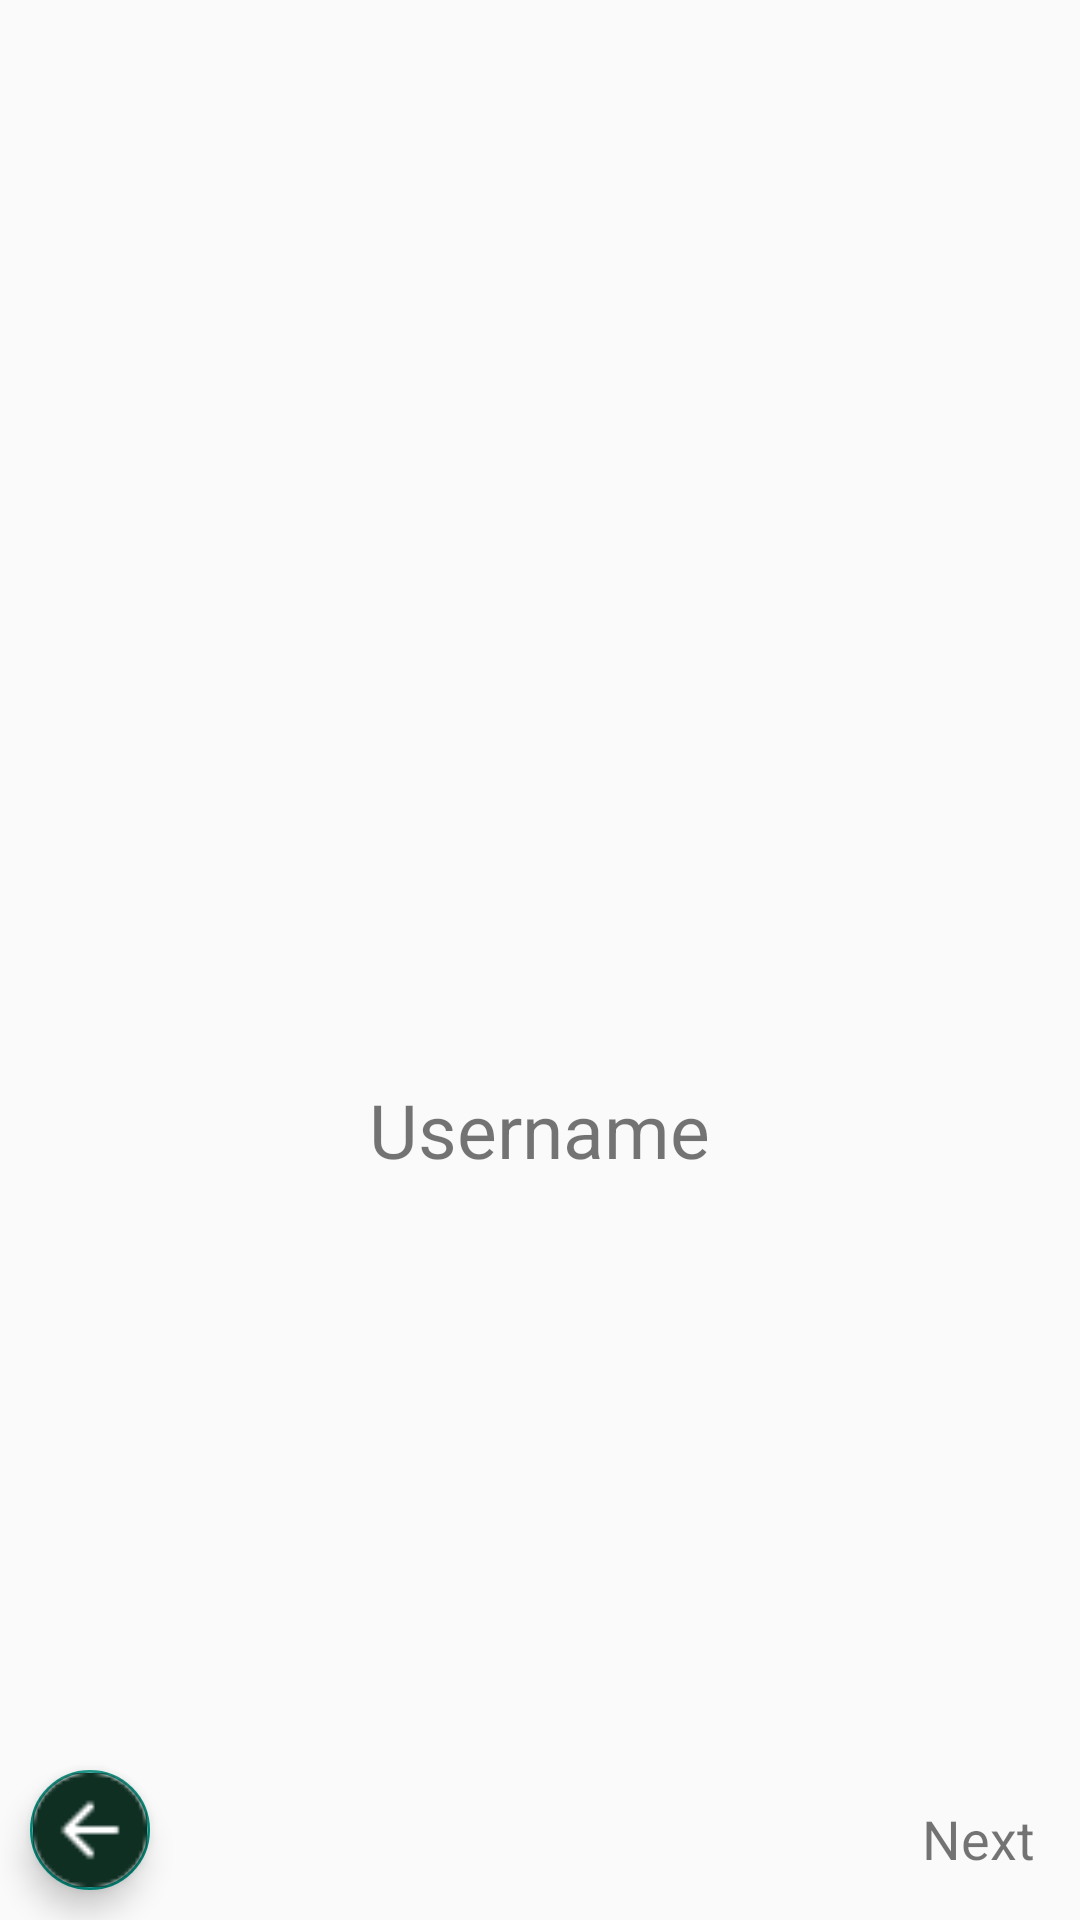

Where icons sit on this 1080 x 1920 app screen, as [left=x1, top=y1, right=x2, bottom=y2]:
back: [left=30, top=1770, right=150, bottom=1890]
